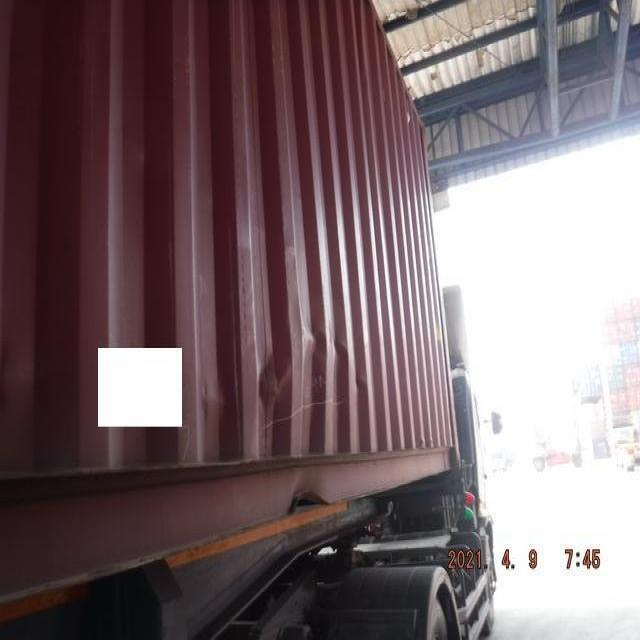dent: (236, 289, 353, 416)
